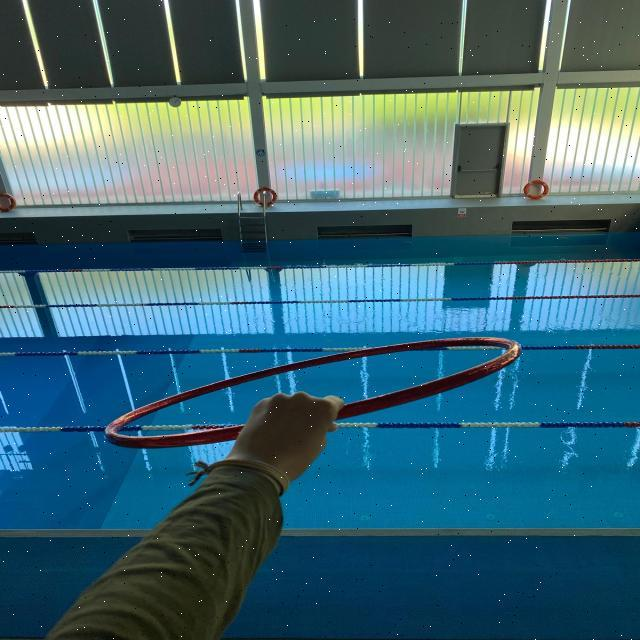Circle: (102, 336, 524, 452)
